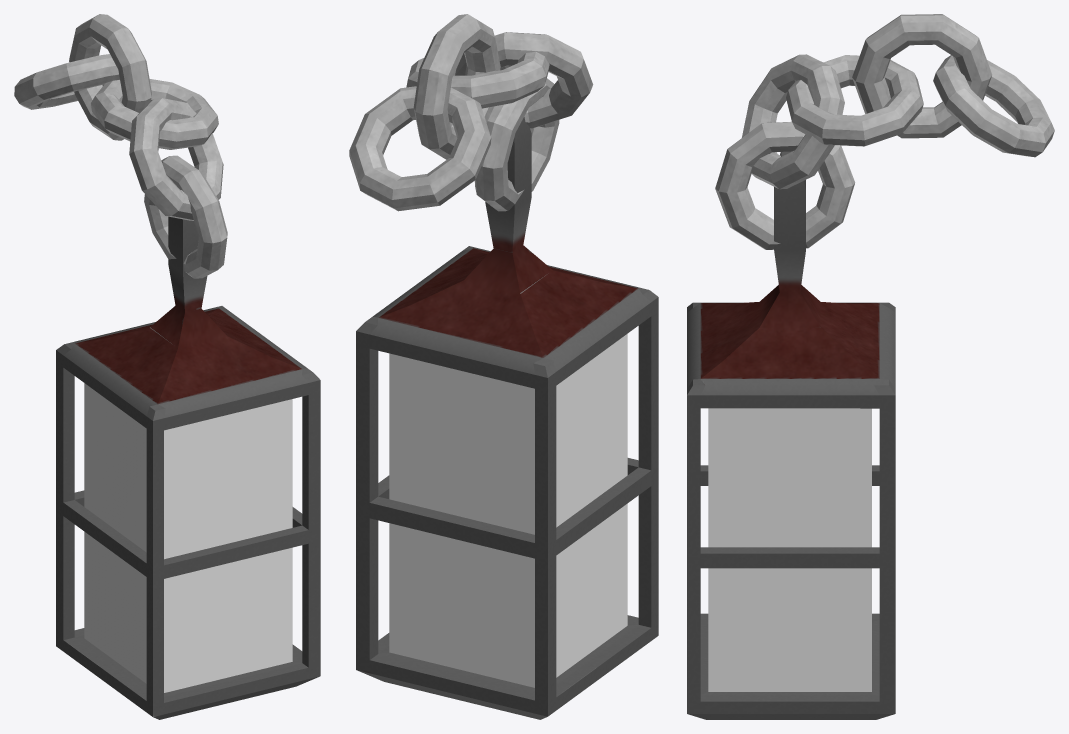
File: lanterne_apres.fbx
3 renders of one model, left to right at view 1: azimuth 30°, elevation 25°; view 2: azimuth 150°, elevation 25°; view 3: azimuth 270°, elevation 25°, orthographic. The views are drawn at different scales.
Visible parts, largest first — view 1: lanterne1; view 2: lanterne1; view 3: lanterne1.
Boxes of the visible parts, <box> form: lanterne1: <box>14,14,320,719</box>; lanterne1: <box>349,14,658,719</box>; lanterne1: <box>687,14,1054,719</box>.
Bounding box in the file's own units: 0.3048 × 1.1 × 0.5379.
Materials: 2 (1 with a texture image).
